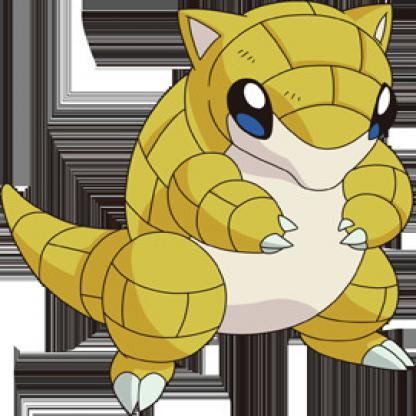Sandshrew: (1, 1, 416, 416)
